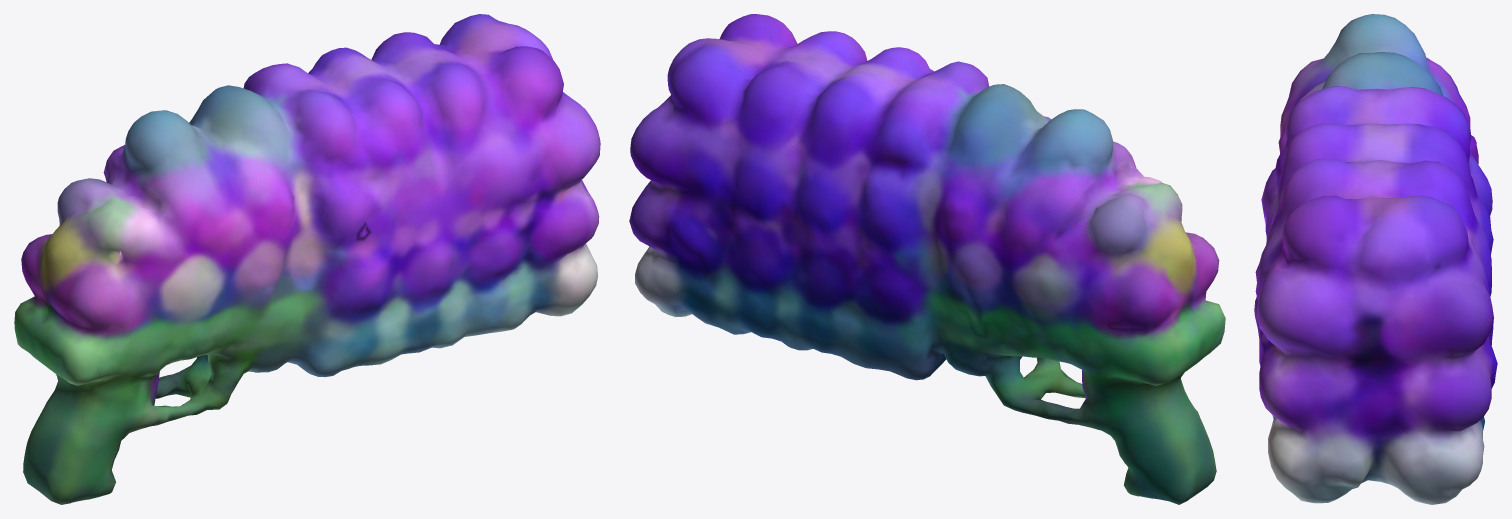
The model's file is A_purple_and_light-blue_rubbery_shotgun_that_looks_like_it_ca_0406121323_preview.fbx.
The picture shows the model from 3 angles, left to right: view 1: azimuth 30°, elevation 25°; view 2: azimuth 150°, elevation 25°; view 3: azimuth 270°, elevation 25°; orthographic projection. The views are drawn at different scales.
Parts seen in each view (by area): view 1: Mesh1; view 2: Mesh1; view 3: Mesh1.
Boxes of the visible parts, box(x1,y1,x2,y2) form: Mesh1: box(14, 14, 600, 504); Mesh1: box(629, 14, 1225, 504); Mesh1: box(1254, 14, 1497, 504).
Size of the model in its own units: 120 by 79 by 44.23.
Materials: 1 (1 with a texture image).
